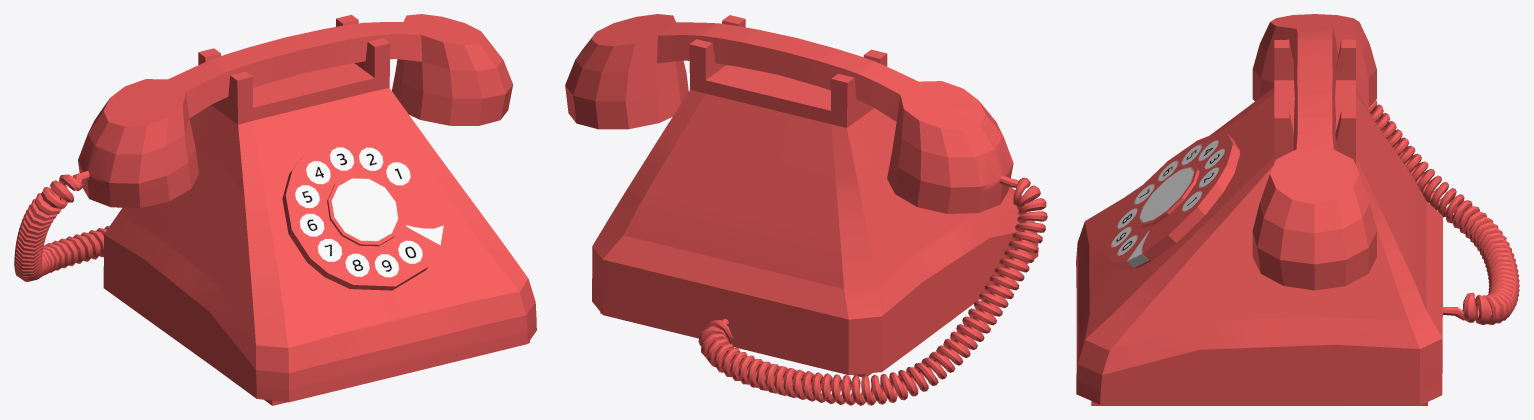
The model's file is telephone.fbx.
3 views of the same model, side by side, from view 1: azimuth 30°, elevation 25°; view 2: azimuth 150°, elevation 25°; view 3: azimuth 270°, elevation 25° (orthographic). The views are drawn at different scales.
Visible parts, largest first — view 1: telephone1:telephone; view 2: telephone1:telephone; view 3: telephone1:telephone.
Part boxes in pixels (bbox=[...]): telephone1:telephone: bbox=[14, 14, 536, 405]; telephone1:telephone: bbox=[565, 14, 1047, 405]; telephone1:telephone: bbox=[1076, 14, 1519, 405].
Size of the model in its own units: 2.68 by 1.4 by 2.11.
1 material, 1 textured.
